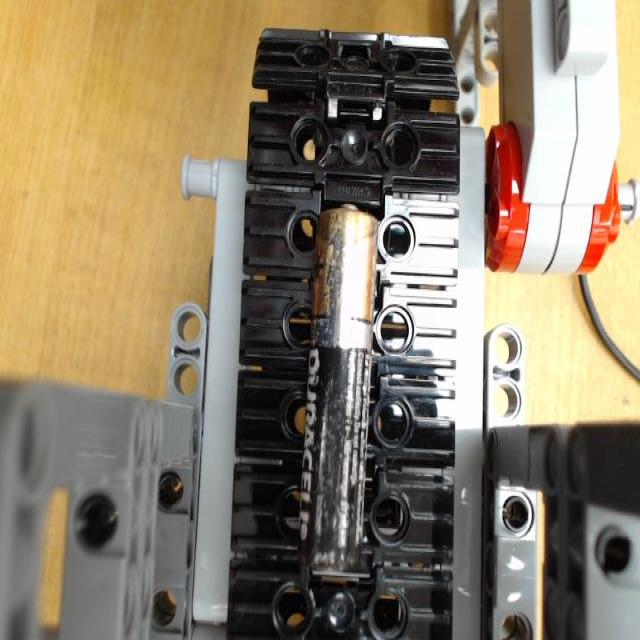AAA: (300, 200, 378, 585)
